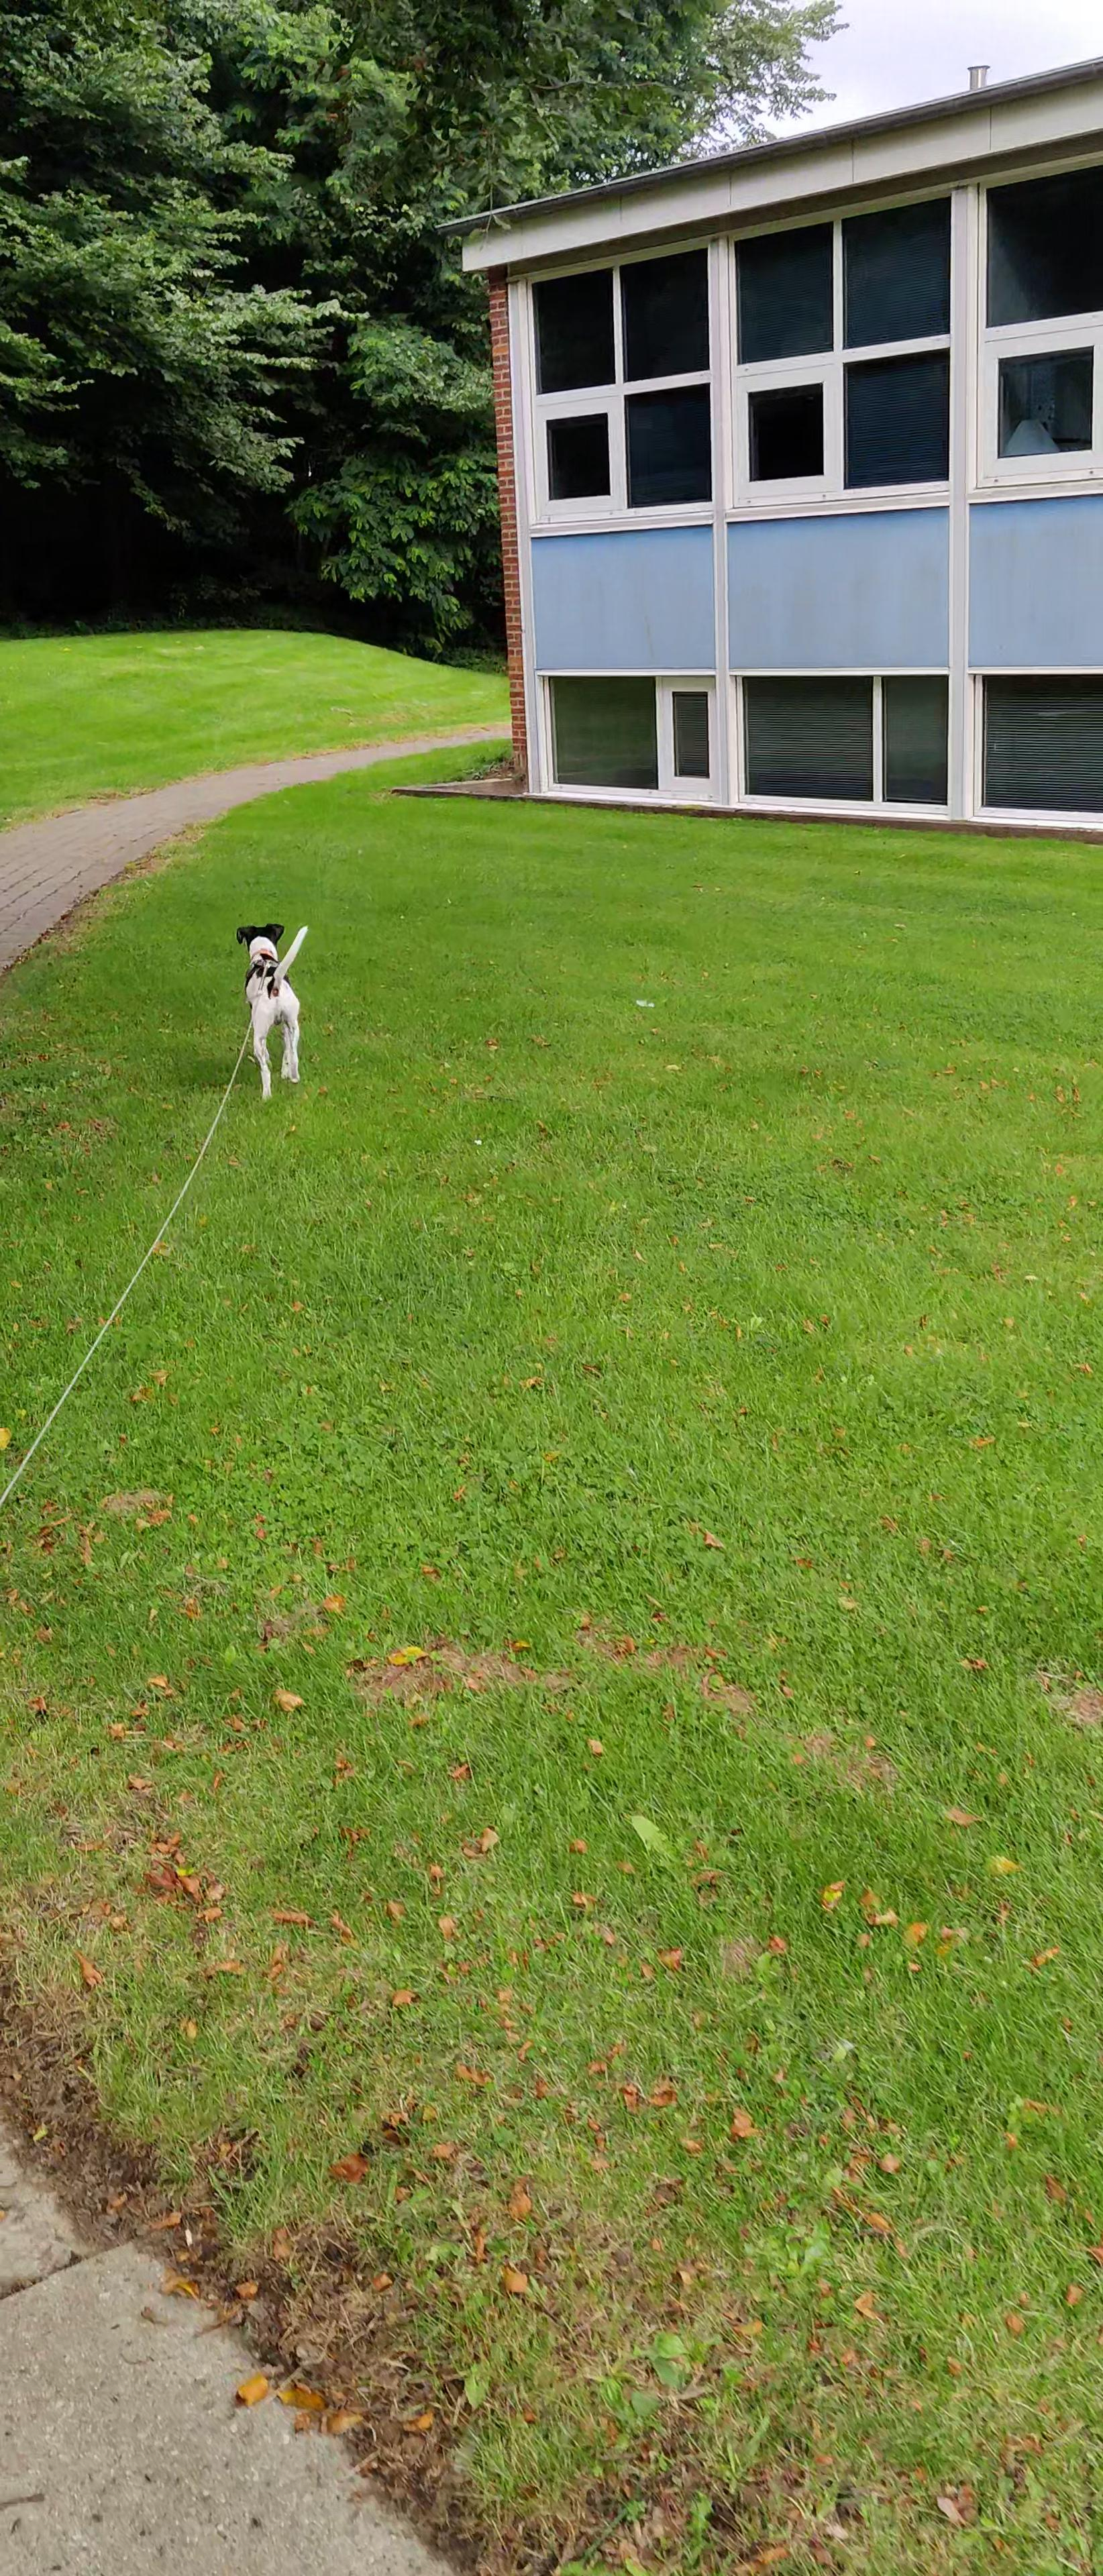Dog: (217, 908, 332, 1114)
